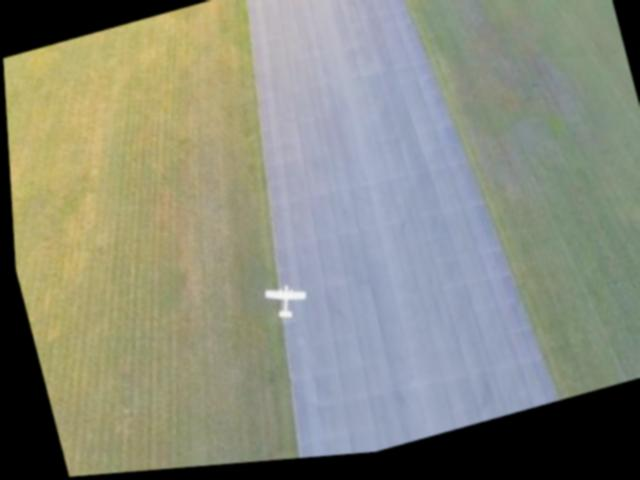uav: (258, 281, 307, 329)
